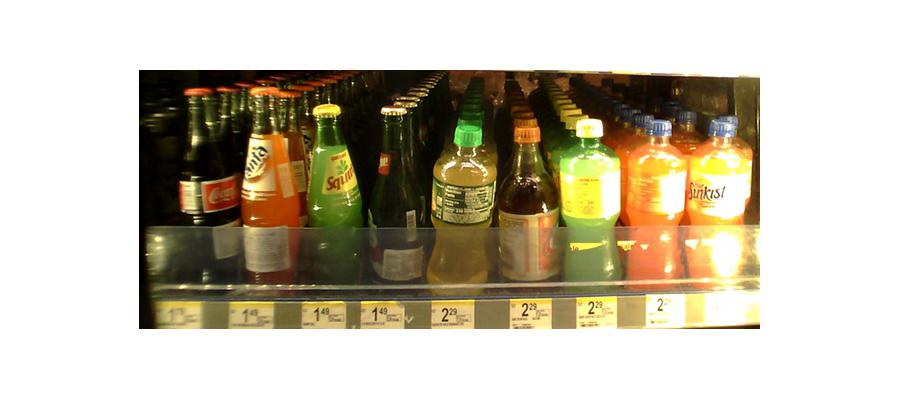bottle: (241, 83, 303, 288), (175, 85, 237, 289), (687, 112, 754, 285), (560, 113, 624, 290), (430, 114, 494, 290), (365, 101, 425, 287), (302, 101, 361, 286), (500, 112, 558, 286), (625, 116, 685, 284)
